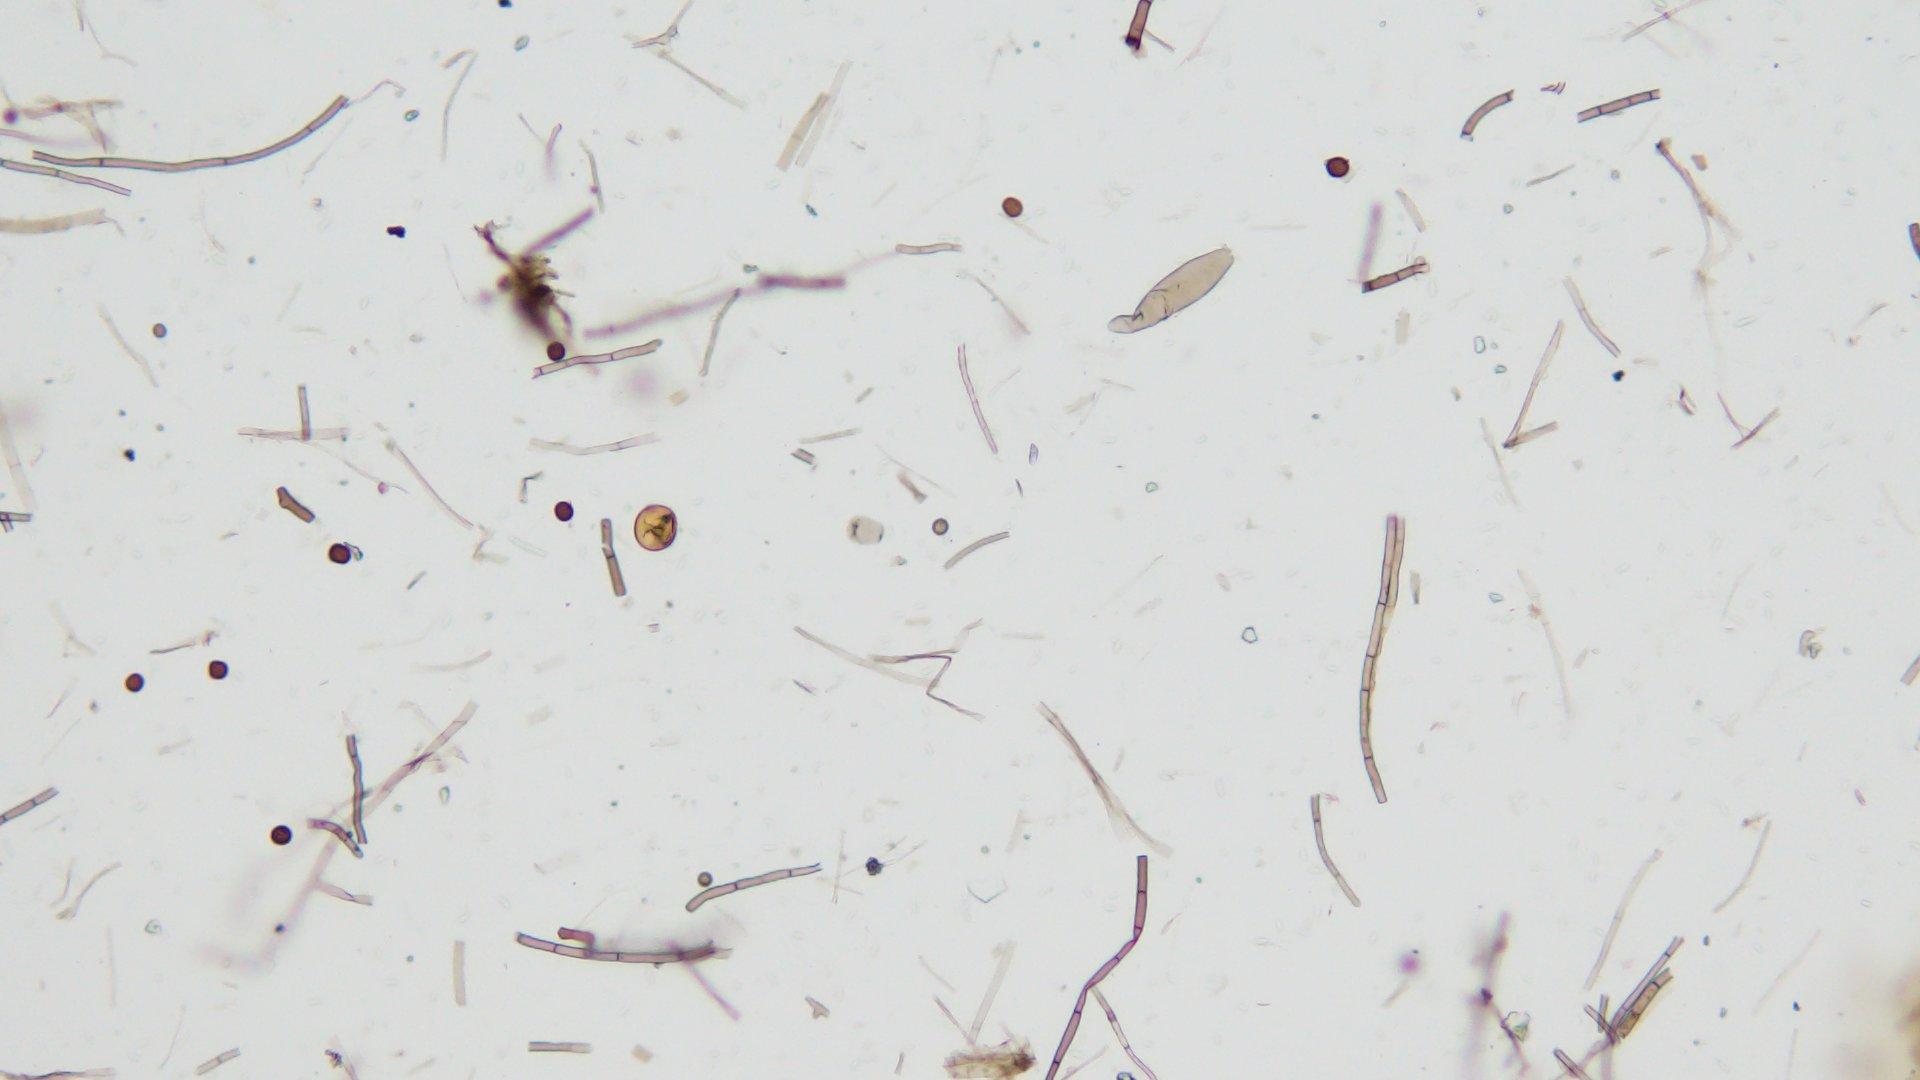dbb_spore: (1116, 251, 1233, 334)
shs_spore: (553, 500, 575, 524), (1325, 156, 1352, 174), (207, 659, 228, 682), (328, 545, 352, 564), (272, 825, 295, 845), (546, 342, 566, 361), (1002, 196, 1022, 216), (125, 673, 144, 694)
xb_spore: (636, 502, 680, 550)
